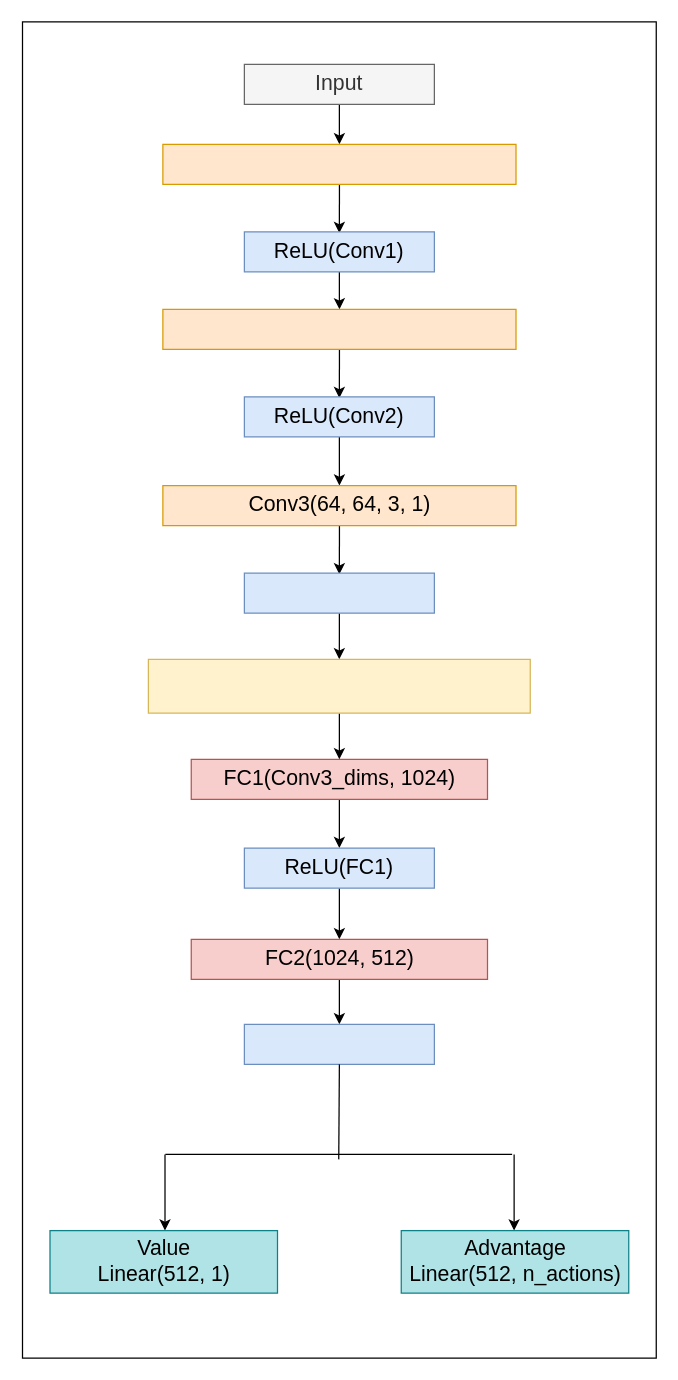
Some shapes in this 678 by 1380 pixel diagram are drawn without their labels. Each missing label, with the centre of its shape:
"Conv1(input_dims[0], 32, 8, 4)" goes at (x=339, y=163).
"Conv2(32, 64, 4, 2)" goes at (x=339, y=328).
"Conv3_dims = Flatten(Conv3)" goes at (x=338, y=685).
"ReLU(Conv3)" goes at (x=338, y=592).
"ReLU(FC2)" goes at (x=338, y=1043).
